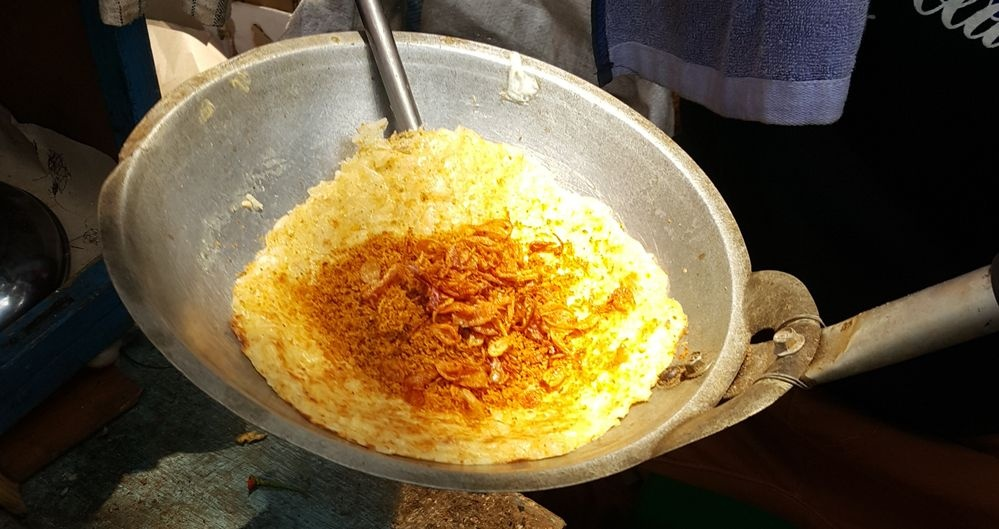kerak_telor: (224, 124, 690, 470)
